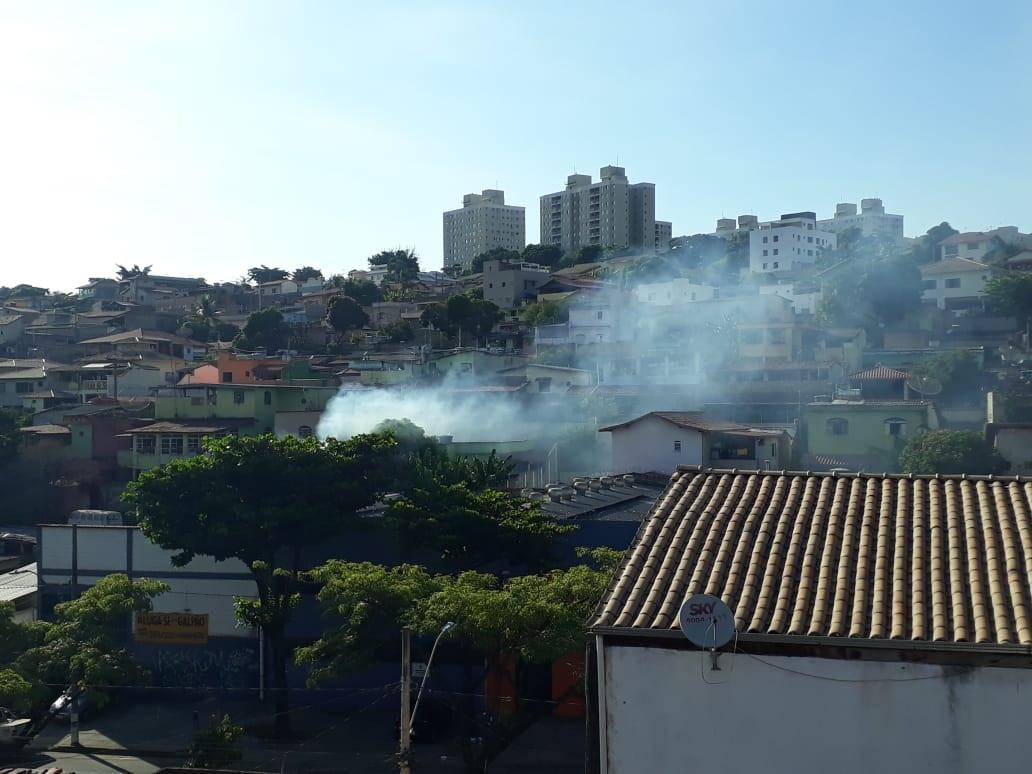smoke: (598, 302, 766, 412)
